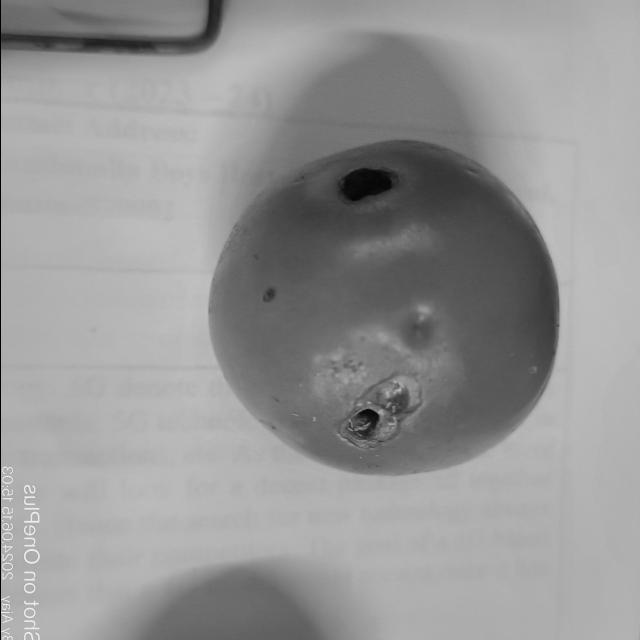fruitworm_bore: (334, 374, 426, 451), (334, 160, 400, 206)
